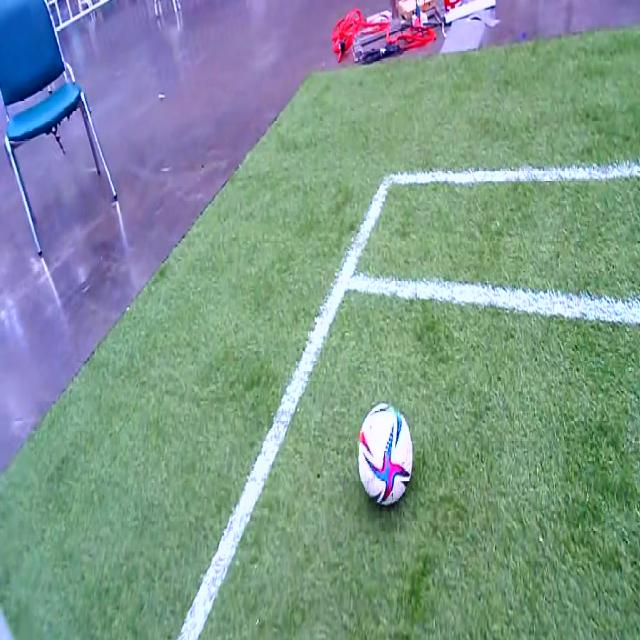ball: (359, 403, 413, 503)
